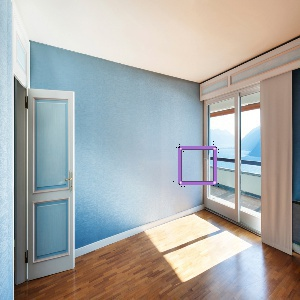square: (177, 143, 219, 187)
